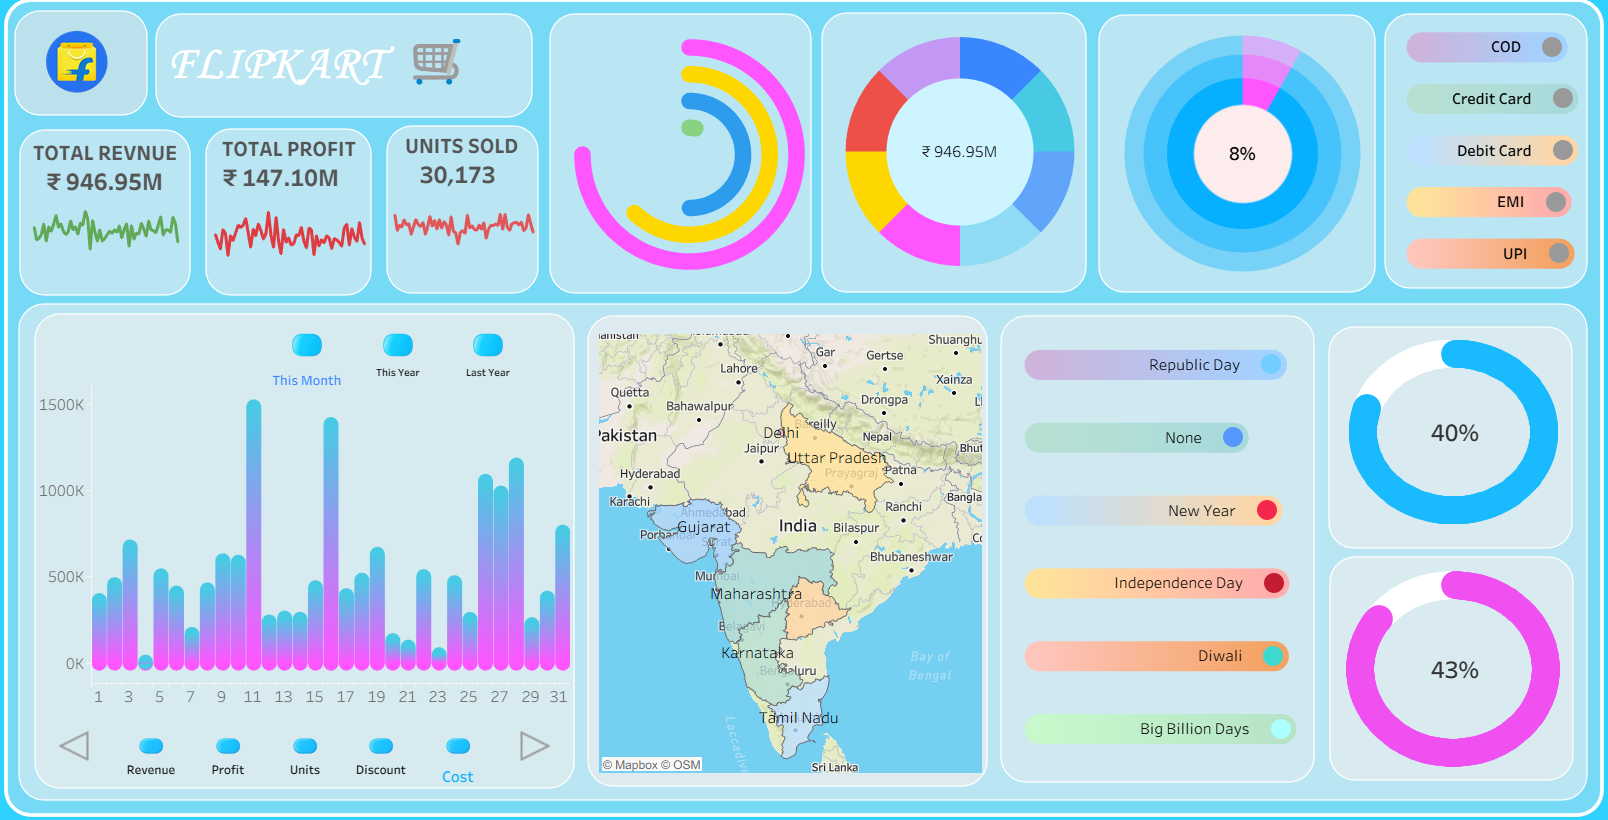

Layout of this report page (visuals, bound fields, positions):
{"tool":"tableau","page":{"name":"FLIPKART","canvas":[1000,1000],"units":"permille","ordinal":0},"visuals":[{"type":"worksheet","title":"Layout 2","mark":"Automatic","box":[0,0,996.3,997.5]},{"type":"image","param":"Image/aa708d1f97a04f6f5a208213f89e1e67-removebg-preview.png","box":[11.6,34.9,85,116]},{"type":"worksheet","title":"Half-Donut","mark":"Automatic","box":[685.2,34.9,163.2,332.9]},{"type":"worksheet","title":"Donut Chart","mark":"Pie","rows":["Calculation_1487127911444496","Calculation_1487127911456786"],"box":[509.8,42.4,168.7,314.2]},{"type":"worksheet","title":"Payment","mark":"Automatic","rows":["payment_method"],"cols":["revenue"],"box":[862.5,46.1,113.7,303]},{"type":"worksheet","title":"Radial Chart","mark":"Line","box":[351.5,53.6,154,303]},{"type":"text","box":[107,62.3,211.5,89.8]},{"type":"worksheet","title":"Revenue","mark":"Text","box":[25.1,165.8,96.6,106]},{"type":"worksheet","title":"Unit Sold","mark":"Automatic","box":[252.4,175.8,85.6,78.5]},{"type":"worksheet","title":"Profit","mark":"Automatic","box":[140.6,178.3,99,88.5]},{"type":"worksheet","title":"Sales Line","mark":"Automatic","rows":["revenue"],"cols":["order_date"],"box":[22.6,261.9,98.4,107.2]},{"type":"worksheet","title":"Profit Line","mark":"Automatic","rows":["margin"],"cols":["order_date"],"box":[133.2,263.1,102.1,104.7]},{"type":"worksheet","title":"Unit Line","mark":"Automatic","rows":["units"],"cols":["order_date"],"box":[243.3,265.6,94.7,104.7]},{"type":"worksheet","title":"Year","mark":"Automatic","rows":["Calculation_0785914610319378","Calculation_0785914610335764"],"cols":["Calculation_0785914609299470"],"box":[167.5,372.8,165.7,107.2]},{"type":"worksheet","title":"Channel","mark":"Automatic","rows":["festival"],"cols":["revenue"],"box":[625.9,406.5,180.9,513.7]},{"type":"worksheet","title":"Customer Rating","mark":"Circle","rows":["Calculation_1611648175169544"],"box":[826.4,411.5,138.8,235.7]},{"type":"worksheet","title":"Map","mark":"Multipolygon","box":[373.5,414,234.1,516.2]},{"type":"worksheet","title":"Bar","mark":"Line","cols":["Calculation_0785914613866519"],"box":[30.6,475.1,325.2,379.1]},{"type":"worksheet","title":"Seller Rating","mark":"Circle","rows":["Calculation_1611648175169544"],"box":[824.6,683.3,141.8,249.4]},{"type":"worksheet","title":"Carousel","mark":"Automatic","rows":["Calculation_0785914588606468","Calculation_0785914588635142"],"cols":["Filler Rows"],"box":[29.3,850.4,328.2,94.8]}]}

Visuals, with their boxes on the dashboard's canvas, which has no fixed pixel size, in thousandths of its width and height (x1, y1, x2, y2). These are canvas units, not pixel positions in the 1608x820 screenshot, which may show the page scaled, cropped or inside an application window:
"Layout 2" worksheet: region(0, 0, 996, 998)
image: region(12, 35, 97, 151)
"Half-Donut" worksheet: region(685, 35, 848, 368)
"Donut Chart" worksheet (Pie marks): region(510, 42, 678, 357)
"Payment" worksheet: region(862, 46, 976, 349)
"Radial Chart" worksheet (Line marks): region(352, 54, 506, 357)
text: region(107, 62, 318, 152)
"Revenue" worksheet (Text marks): region(25, 166, 122, 272)
"Unit Sold" worksheet: region(252, 176, 338, 254)
"Profit" worksheet: region(141, 178, 240, 267)
"Sales Line" worksheet: region(23, 262, 121, 369)
"Profit Line" worksheet: region(133, 263, 235, 368)
"Unit Line" worksheet: region(243, 266, 338, 370)
"Year" worksheet: region(168, 373, 333, 480)
"Channel" worksheet: region(626, 406, 807, 920)
"Customer Rating" worksheet (Circle marks): region(826, 412, 965, 647)
"Map" worksheet (Multipolygon marks): region(374, 414, 608, 930)
"Bar" worksheet (Line marks): region(31, 475, 356, 854)
"Seller Rating" worksheet (Circle marks): region(825, 683, 966, 933)
"Carousel" worksheet: region(29, 850, 358, 945)
